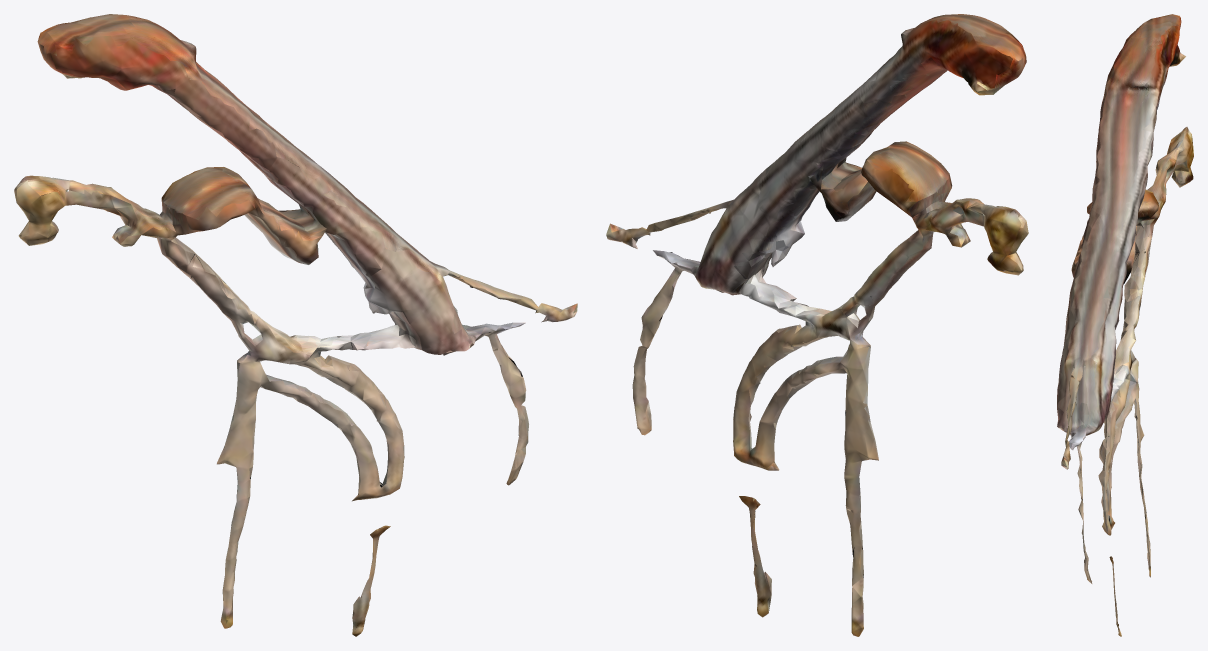
The model's file is 17_43_14_19_violin-with-brass-fittings-and-worn-chinrest.glb.
3 views of the same model, side by side, from view 1: azimuth 30°, elevation 25°; view 2: azimuth 150°, elevation 25°; view 3: azimuth 270°, elevation 25° (orthographic). The views are drawn at different scales.
Visible parts, largest first — view 1: world; view 2: world; view 3: world.
Part boxes in pixels (x1,y1,x2,y2): world: [14, 14, 577, 636]; world: [606, 14, 1028, 636]; world: [1057, 14, 1193, 636].
Bounding box in the file's own units: 0.7326 × 0.9425 × 0.2241.
1 material, 1 textured.
